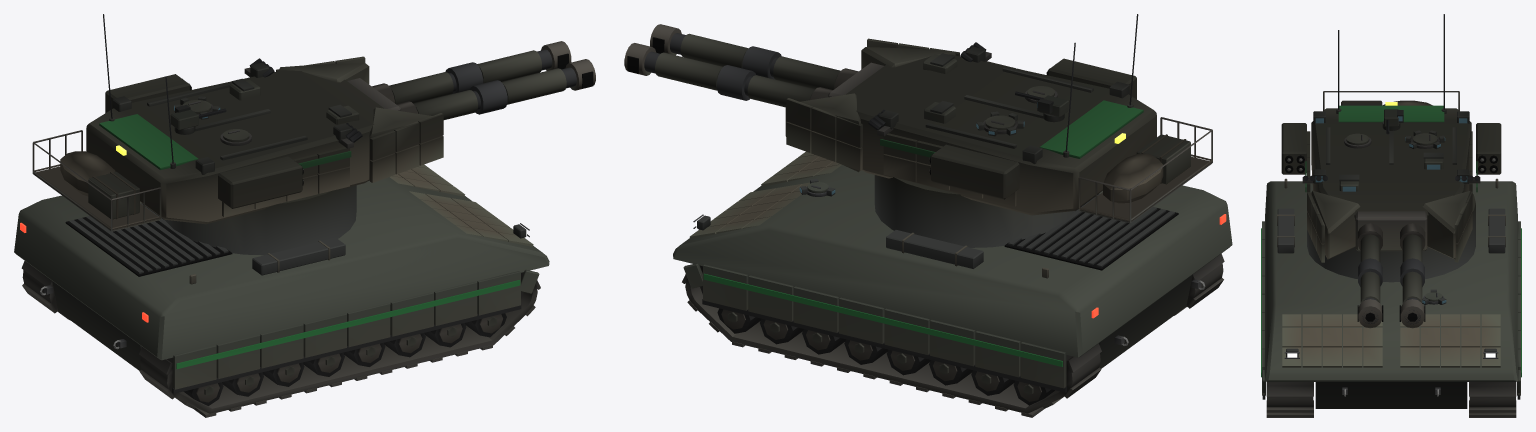
File: u_tsar.glb
3 views of the same model, side by side, from view 1: azimuth 30°, elevation 25°; view 2: azimuth 150°, elevation 25°; view 3: azimuth 270°, elevation 25° (orthographic). The views are drawn at different scales.
Parts seen in each view (by area): view 1: Tsar_turret, Tsar_Walls, Tsar_Details, Tsar_Foundation, Tsar_Frame; view 2: Tsar_turret, Tsar_Walls, Tsar_Details, Tsar_Foundation, Tsar_Frame; view 3: Tsar_turret, Tsar_Walls, Tsar_Details, Tsar_Foundation.
Part boxes in pixels (x1,y1,x2,y2): Tsar_turret: [32, 14, 595, 255]; Tsar_Walls: [14, 176, 549, 389]; Tsar_Details: [20, 203, 540, 417]; Tsar_Foundation: [22, 270, 537, 413]; Tsar_Frame: [54, 295, 502, 402]; Tsar_turret: [624, 14, 1212, 247]; Tsar_Walls: [673, 164, 1232, 388]; Tsar_Details: [682, 179, 1226, 417]; Tsar_Foundation: [685, 263, 1223, 413]; Tsar_Frame: [721, 289, 1189, 401]; Tsar_turret: [1281, 14, 1501, 367]; Tsar_Walls: [1262, 181, 1520, 408]; Tsar_Details: [1261, 178, 1521, 417]; Tsar_Foundation: [1267, 382, 1515, 407].
Size of the model in its own units: 2.39 by 1.48 by 1.24.
